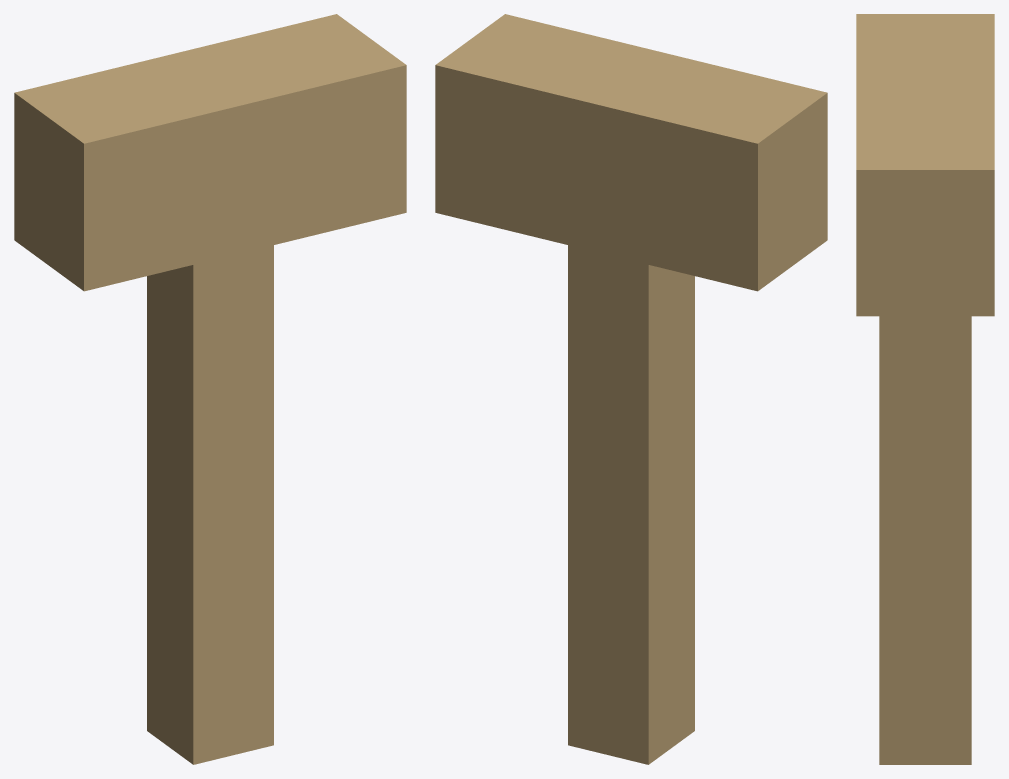
File: 01_hammer.glb
The picture shows the model from 3 angles, left to right: view 1: azimuth 30°, elevation 25°; view 2: azimuth 150°, elevation 25°; view 3: azimuth 270°, elevation 25°; orthographic projection.
Parts seen in each view (by area): view 1: handwerk_01_hammer; view 2: handwerk_01_hammer; view 3: handwerk_01_hammer.
Boxes of the visible parts, x1,y1,x2,y2 form: handwerk_01_hammer: (14,14,406,764); handwerk_01_hammer: (435,14,827,764); handwerk_01_hammer: (856,14,994,764).
Size of the model in its own units: 0.32 by 0.625 by 0.12.
